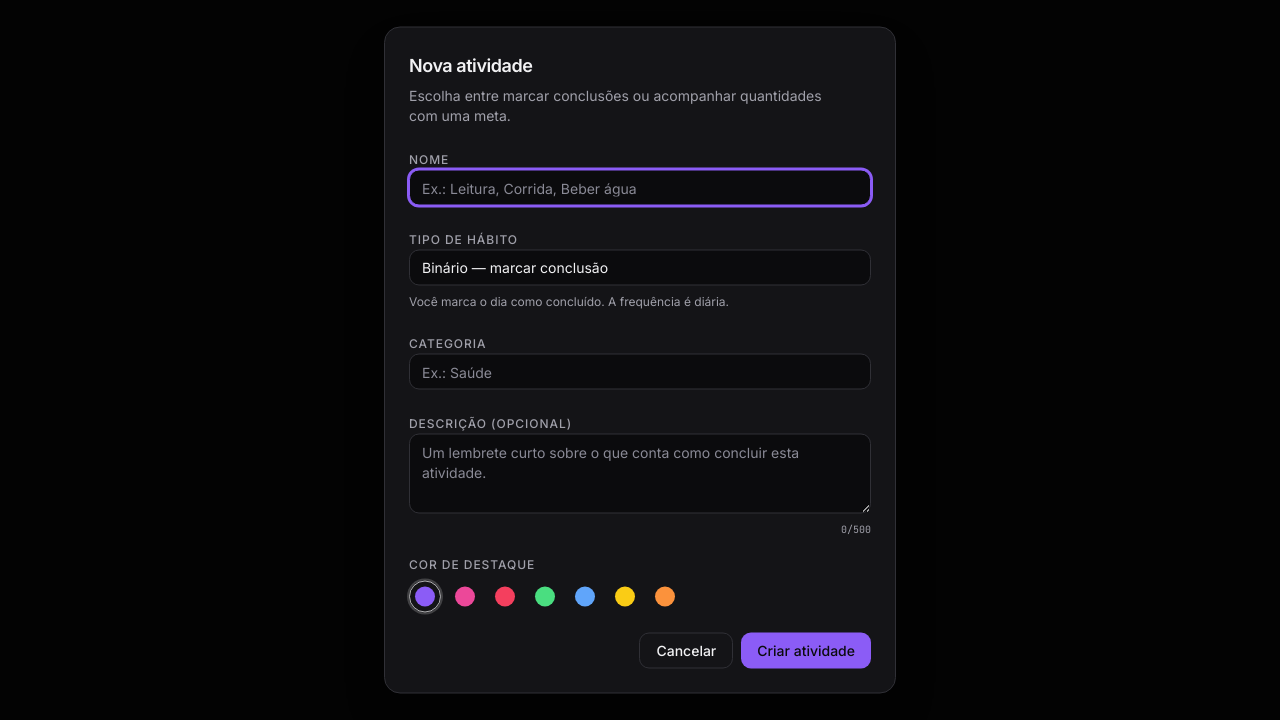
Test: ActivityFormDialog › move o foco para o primeiro campo inválido
Type "Corrida" into the field labelled "Nome" at (640,188), box x1=409 y1=170 x2=871 y2=206
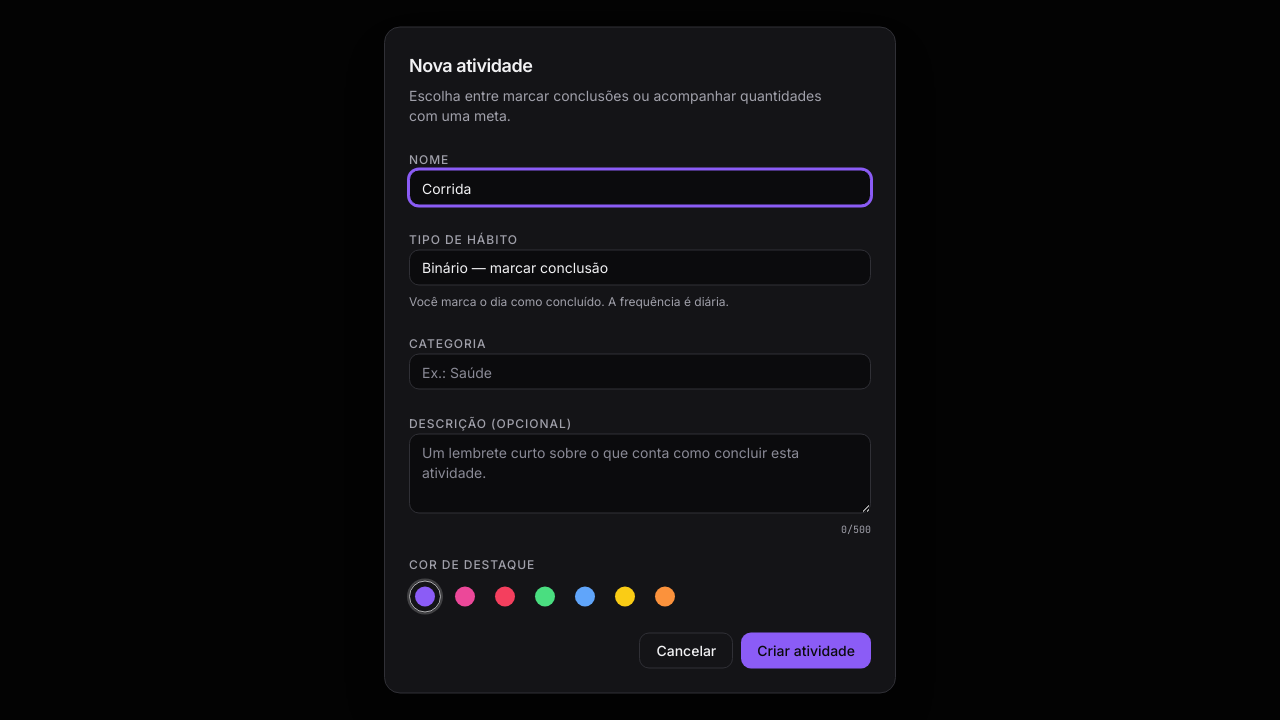
Click the button "Criar atividade" at (806,650), box x1=741 y1=632 x2=871 y2=668
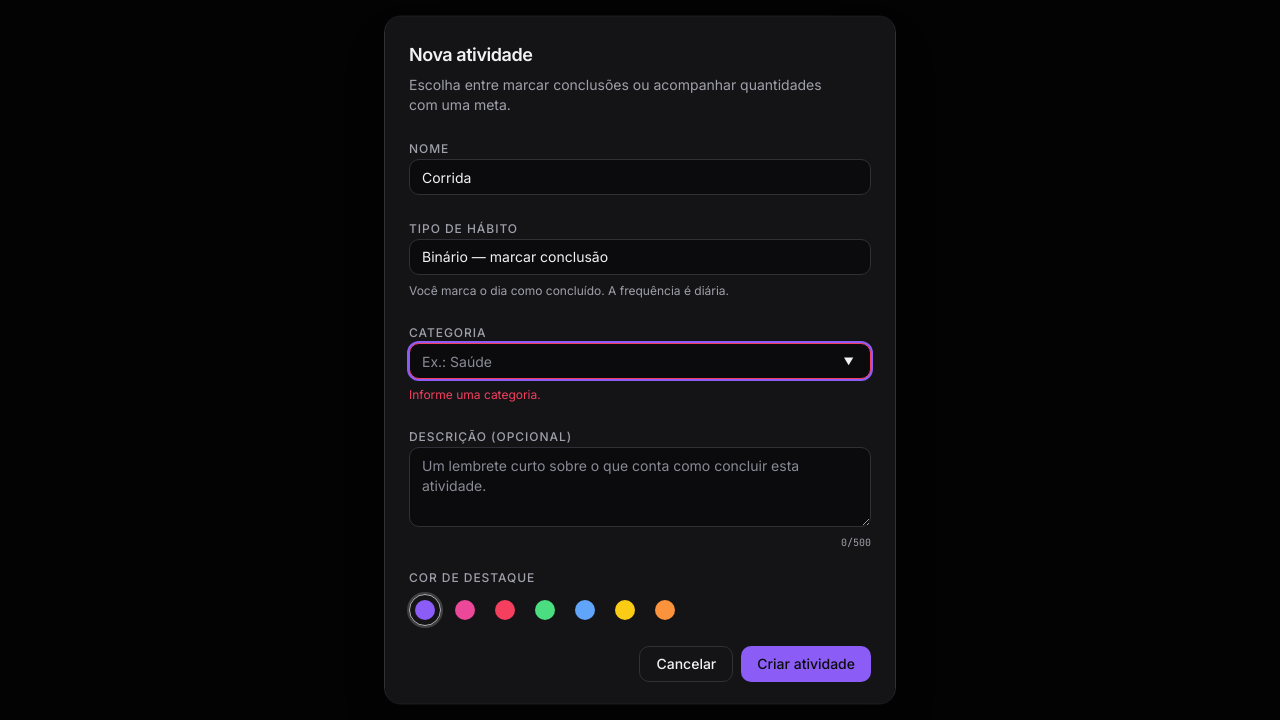
Result: the text "Informe uma categoria." is shown at x1=409 y1=387 x2=541 y2=402
